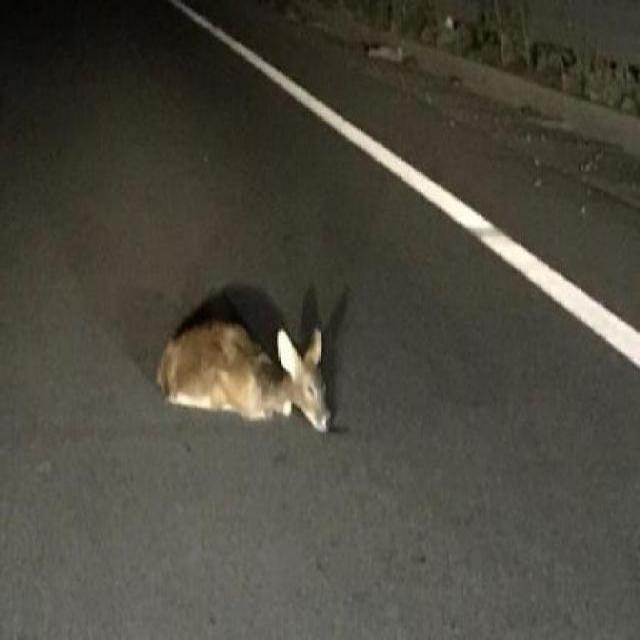deer: (148, 290, 338, 441)
